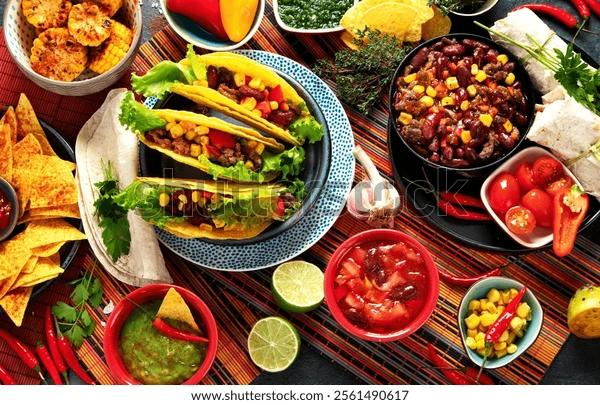Braised Crucian Carp: (131, 46, 352, 270), (388, 33, 534, 179)
